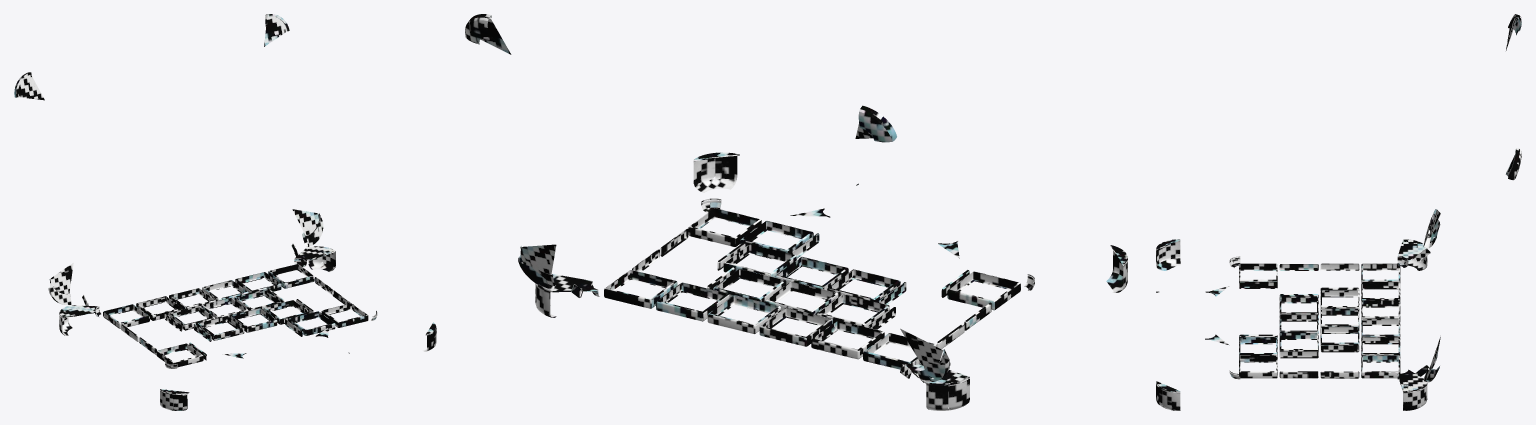
File: macbook_pro.glb
3 renders of one model, left to right at view 1: azimuth 30°, elevation 25°; view 2: azimuth 150°, elevation 25°; view 3: azimuth 270°, elevation 25°, orthographic. The views are drawn at different scales.
Visible parts, largest first — view 1: MacBook_1_MacBook.1_0; view 2: MacBook_1_MacBook.1_0; view 3: MacBook_1_MacBook.1_0.
Part boxes in pixels (bbox=[...]): MacBook_1_MacBook.1_0: bbox=[14, 14, 436, 410]; MacBook_1_MacBook.1_0: bbox=[465, 14, 1127, 410]; MacBook_1_MacBook.1_0: bbox=[1156, 14, 1521, 410].
Size of the model in its own units: 0.33 by 0.2583 by 0.3352.
Materials: 1 (1 with a texture image).
